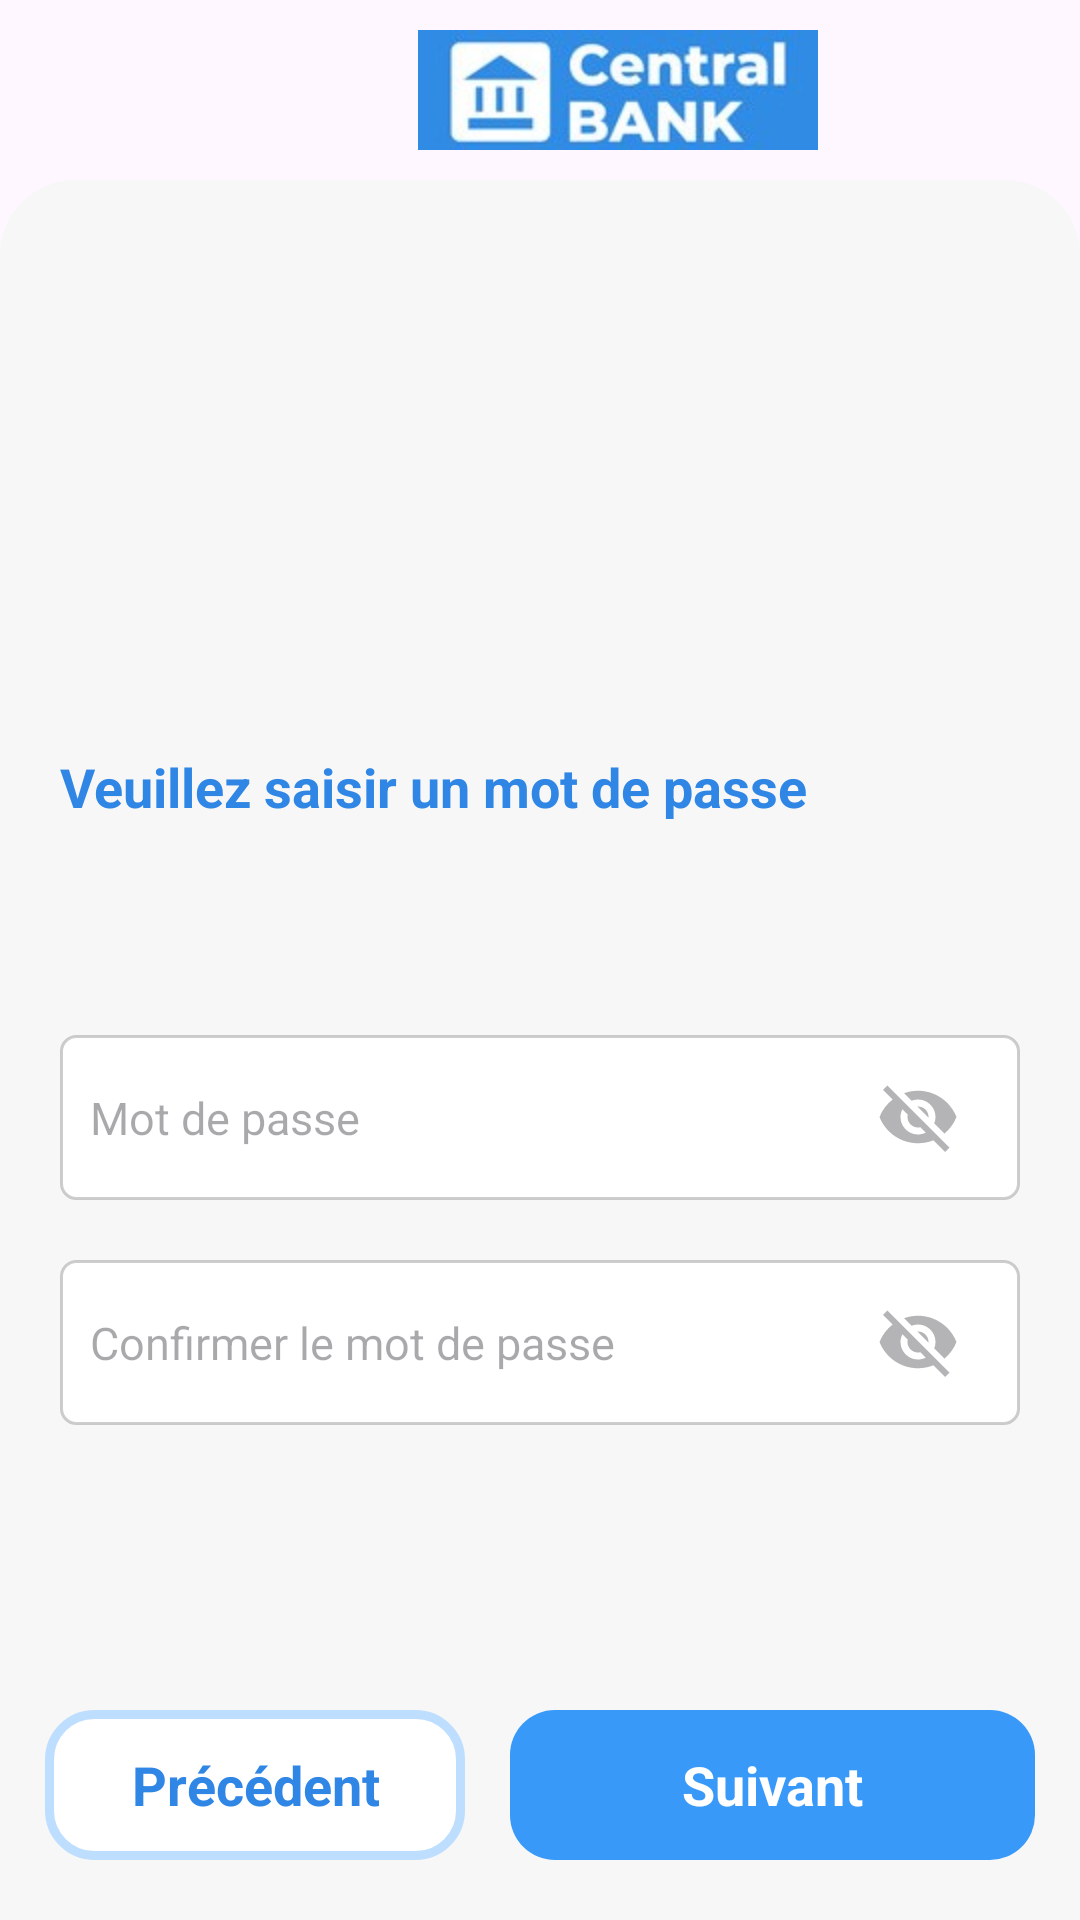

Icons on this 1080px x 1920px Android screen, each with its box as (x1, y1, x2, y2):
eye off: (880, 1086, 956, 1152), (880, 1311, 956, 1377)
